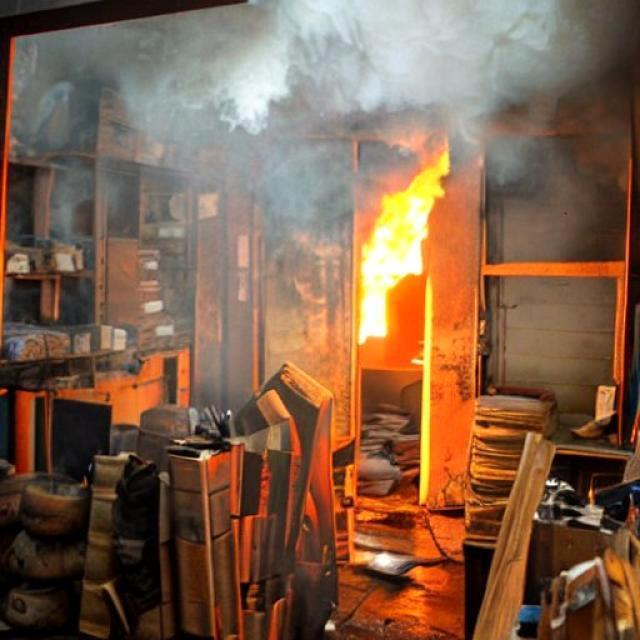Fire: (345, 160, 452, 349)
Smoke: (17, 32, 308, 338), (121, 0, 590, 165), (479, 132, 636, 382)
